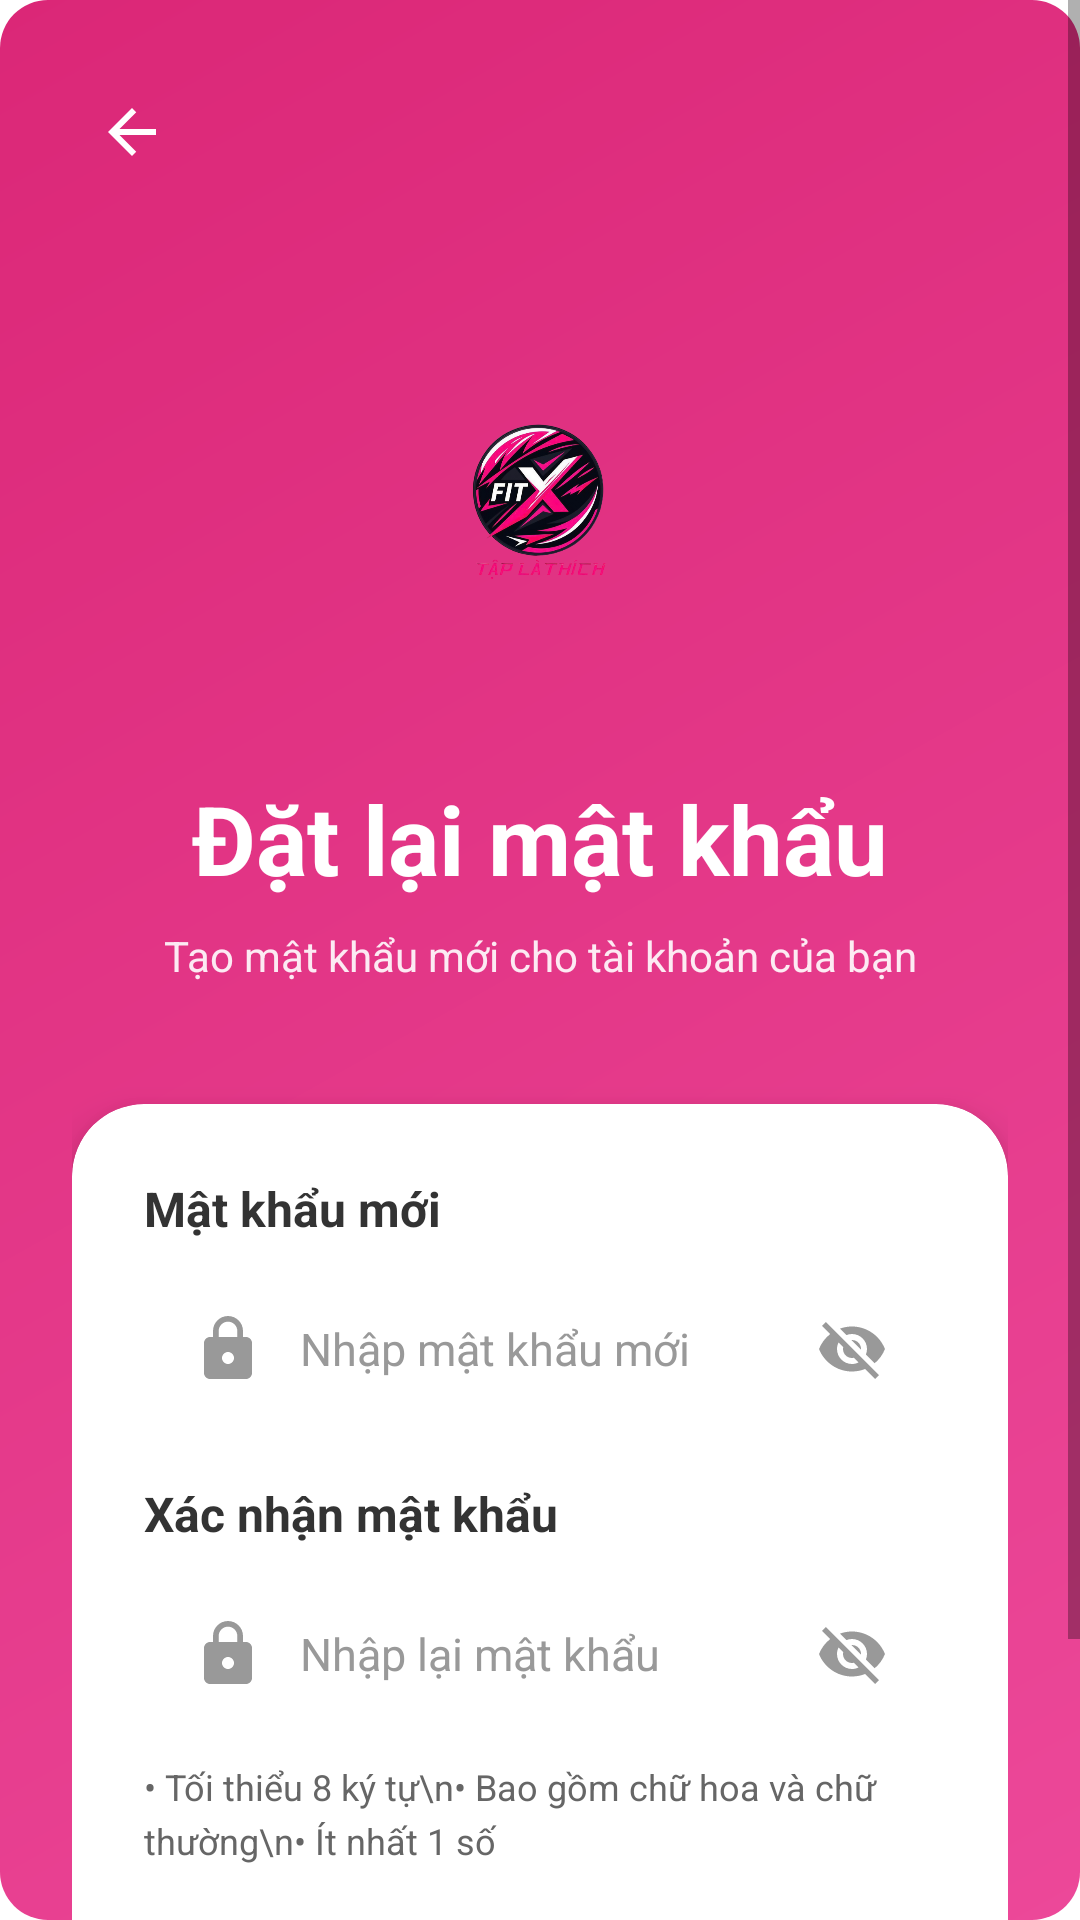

Icons on this 1080px×1920px Android screen, each with the point to tap as point (x, y):
arrow back: point (132, 132)
eye off: point (852, 1350), point (852, 1655)
lock: point (228, 1347), point (228, 1652)
